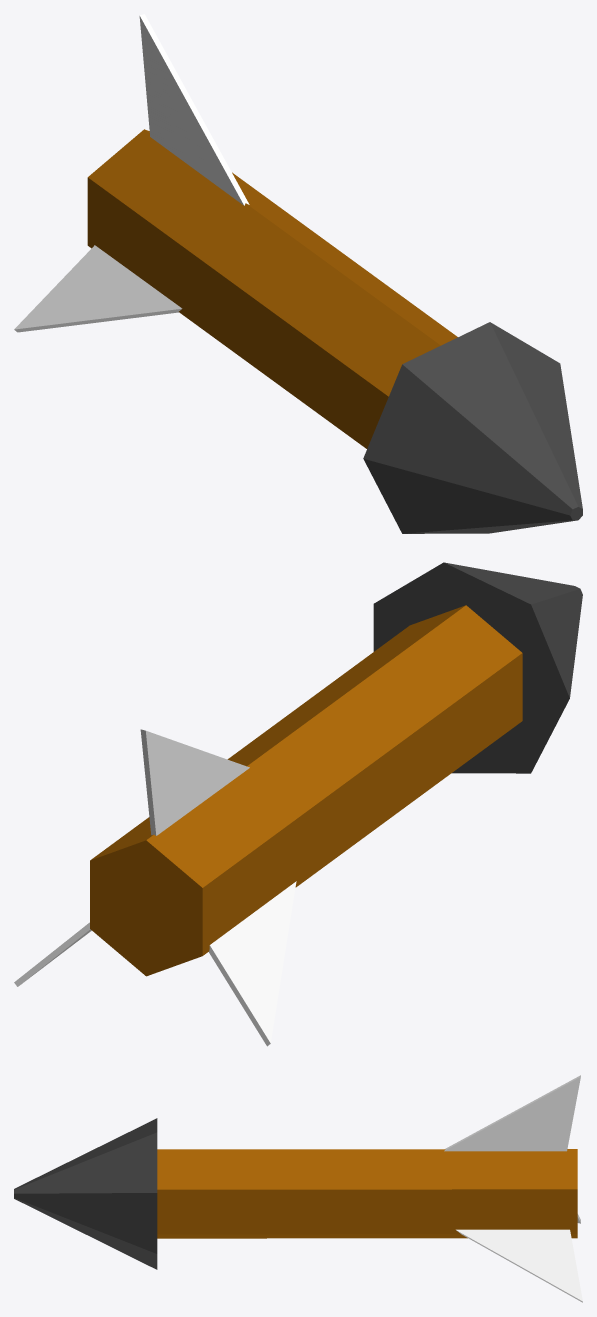
File: Arrow Model.fbx
The picture shows the model from 3 angles, top to bottom: view 1: azimuth 30°, elevation 25°; view 2: azimuth 150°, elevation 25°; view 3: azimuth 270°, elevation 25°; orthographic projection. The views are drawn at different scales.
Parts seen in each view (by area): view 1: Cylinder, Cone, Cylinder.002; view 2: Cylinder, Cone, Cylinder.002; view 3: Cylinder, Cone, Cylinder.002.
Part boxes in pixels (left/top/right/bottom): Cylinder: left=87, top=129, right=457, bottom=448; Cone: left=363, top=322, right=582, bottom=533; Cylinder.002: left=14, top=14, right=249, bottom=332; Cylinder: left=90, top=605, right=522, bottom=976; Cone: left=373, top=562, right=582, bottom=773; Cylinder.002: left=14, top=729, right=296, bottom=1046; Cylinder: left=157, top=1149, right=577, bottom=1238; Cone: left=14, top=1118, right=157, bottom=1269; Cylinder.002: left=444, top=1075, right=582, bottom=1302.
Bounding box in the file's own units: 34.09 × 36.55 × 101.
